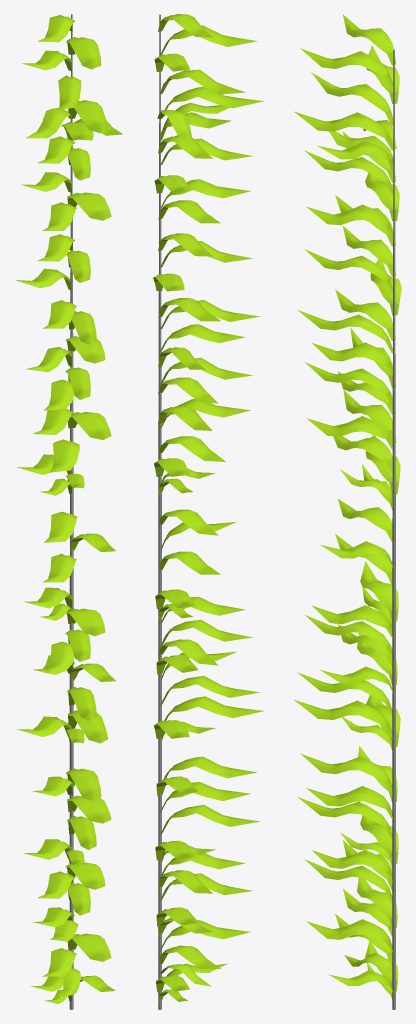
Rendered from Lo-Sha_SeaVine.fbx.
3 renders of one model, left to right at view 1: azimuth 90°, elevation 25°; view 2: azimuth 150°, elevation 25°; view 3: azimuth 330°, elevation 25°, orthographic. The views are drawn at different scales.
Visible parts, largest first — view 1: SeaVine2; view 2: SeaVine2; view 3: SeaVine2.
Boxes of the visible parts, x1,y1,x2,y2 form: SeaVine2: (15,14,122,1009); SeaVine2: (152,14,264,1009); SeaVine2: (294,14,401,1009).
Size of the model in its own units: 172 by 1740 by 171.
